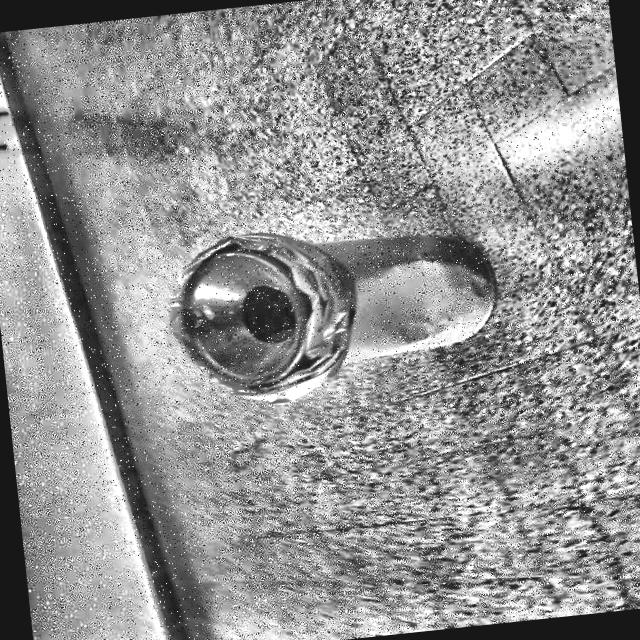Dustbin: (122, 184, 524, 446)
